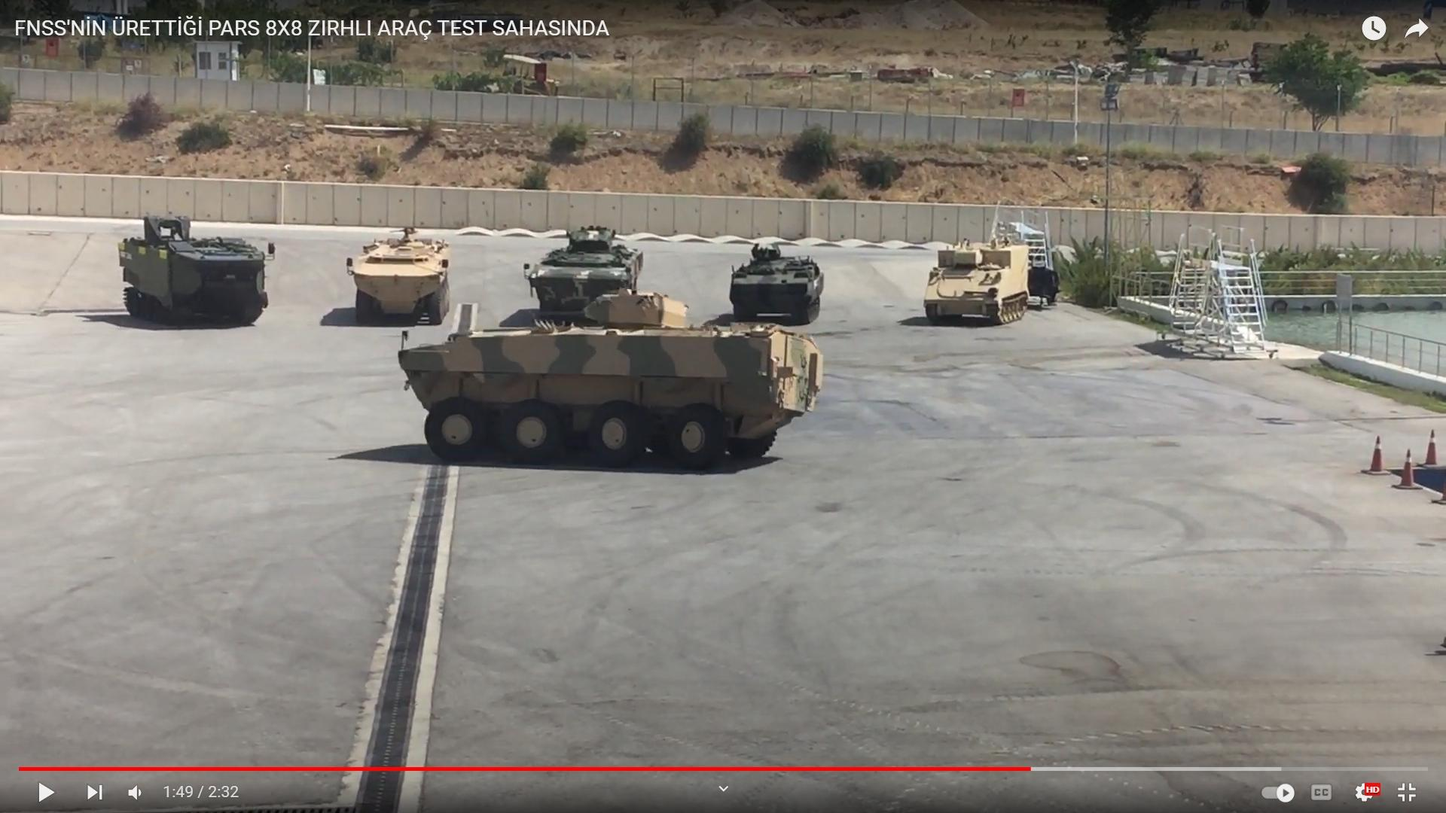armored_car: (386, 291, 828, 475), (519, 220, 652, 322), (924, 234, 1043, 326), (348, 228, 451, 325), (729, 244, 827, 329)
